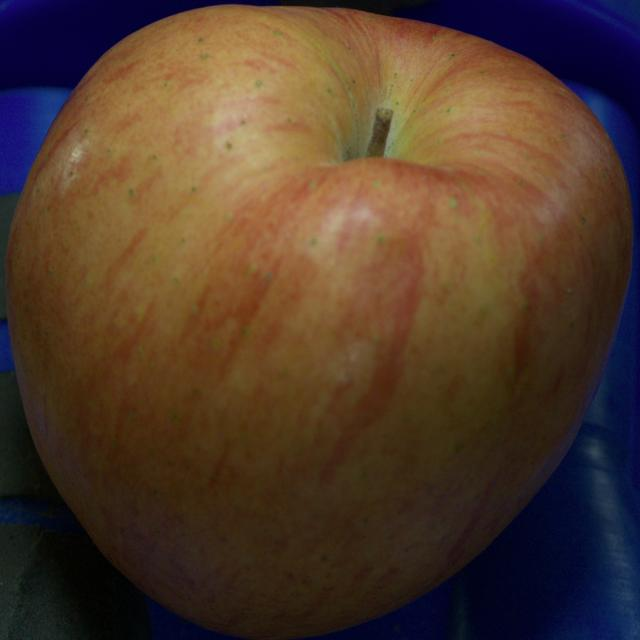apple: (6, 6, 632, 639)
